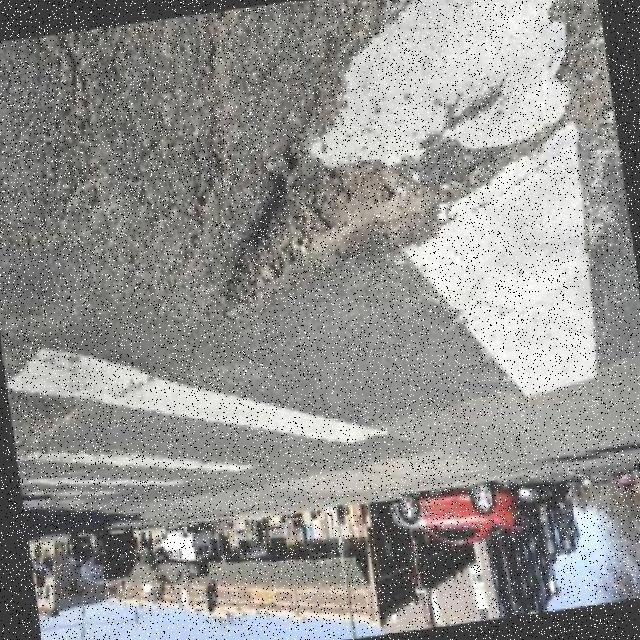Pothole: (223, 144, 475, 308)
